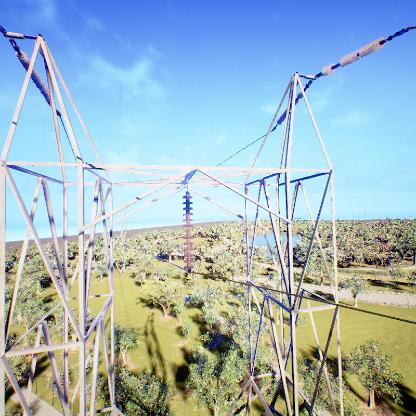insulator: (181, 192, 194, 274)
